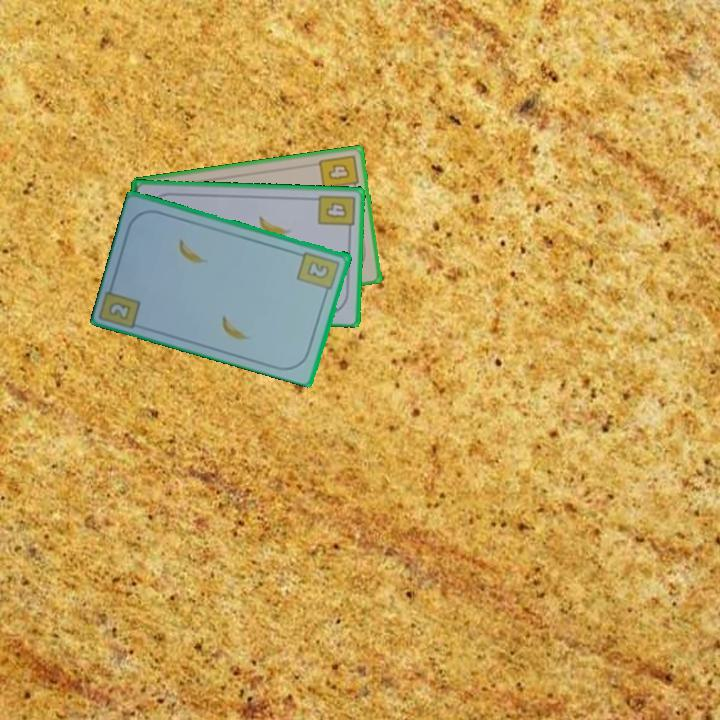2b: (294, 248, 343, 298), (107, 298, 134, 323)
4b: (315, 151, 361, 195), (315, 191, 357, 236)
